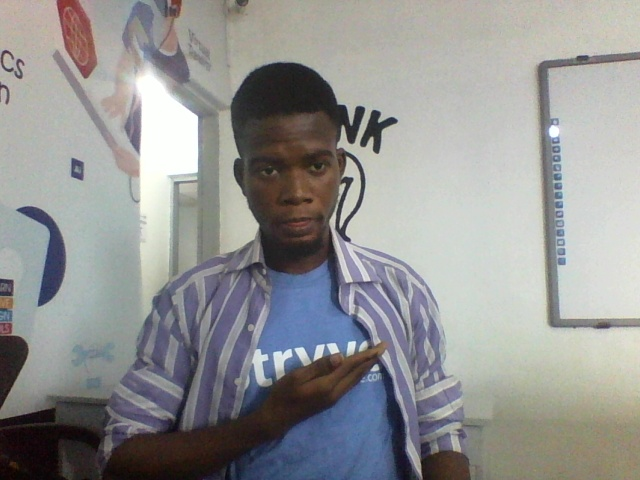you_are_welcome: (124, 345, 412, 449)
